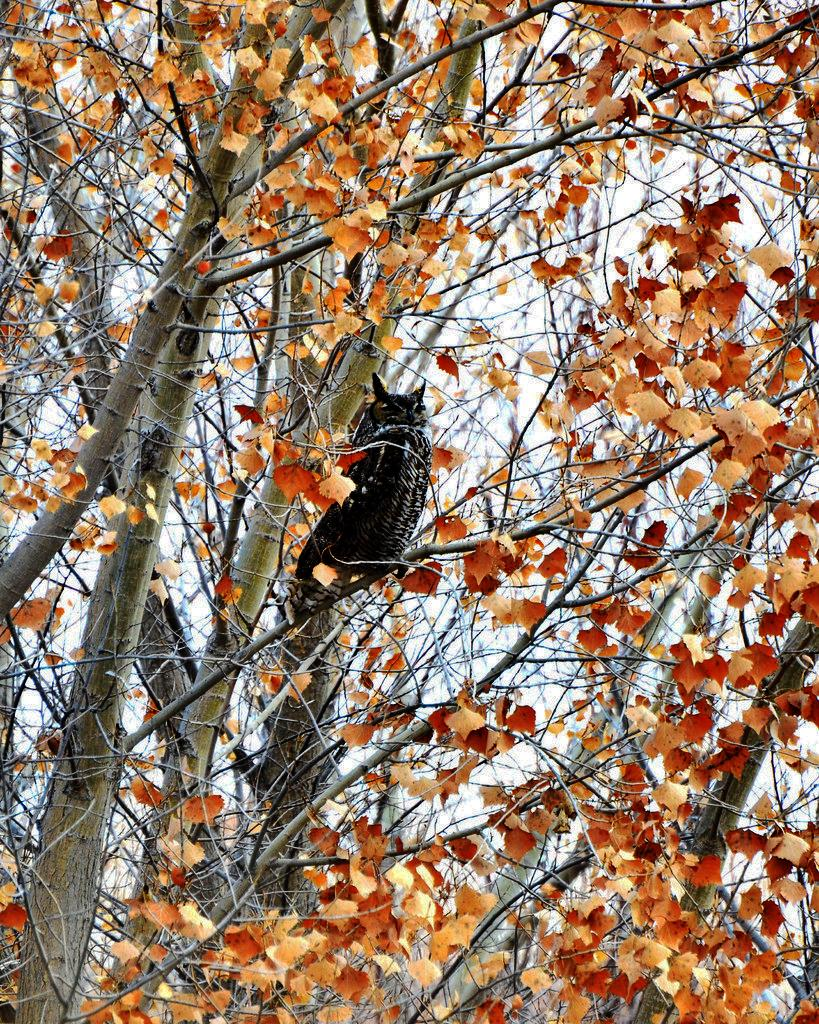Owl: (290, 377, 430, 611)
